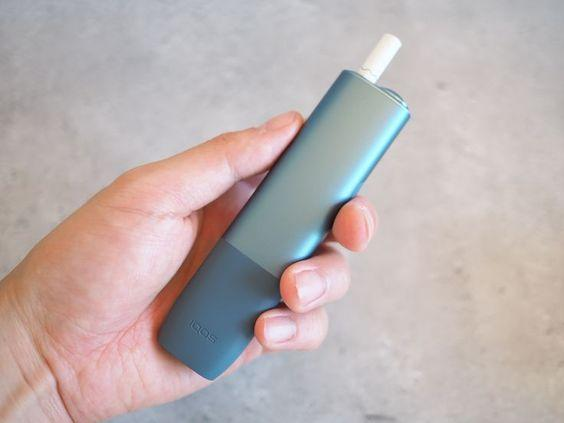iqos: (160, 34, 409, 379)
